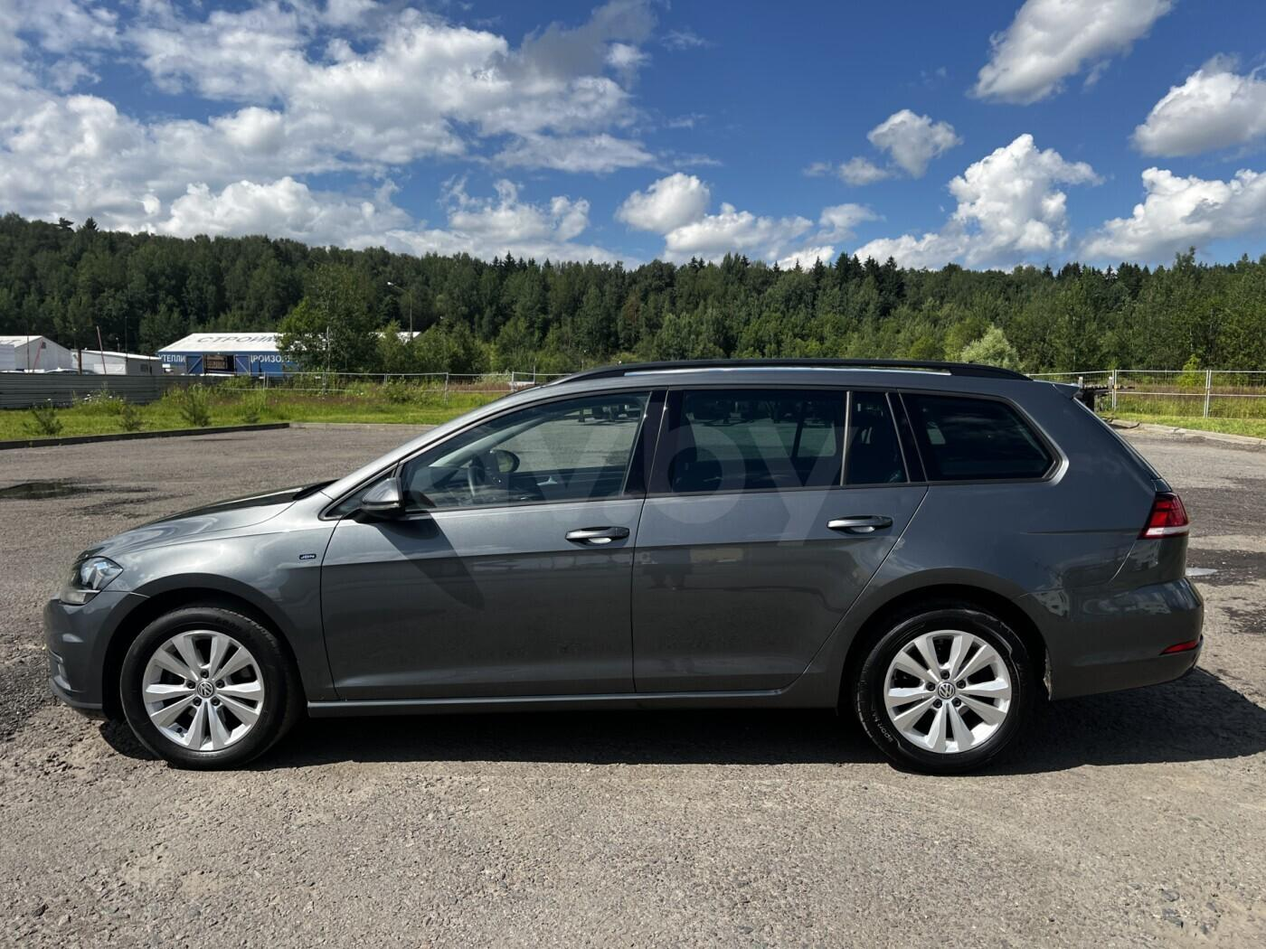Golf_2017-2021: (33, 351, 1210, 773)
